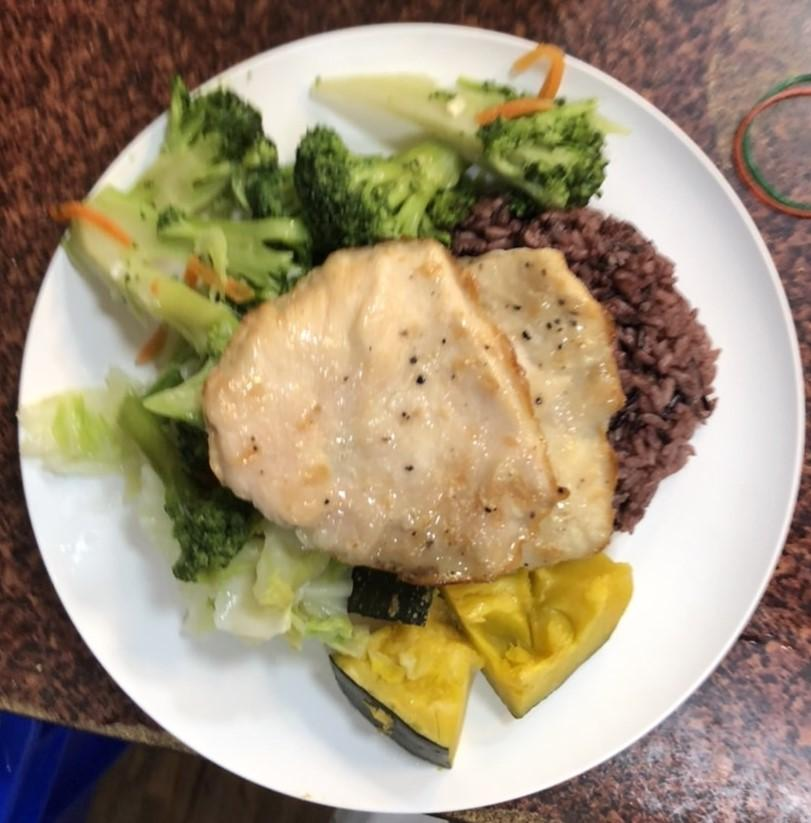big fried chicken leg: (6, 14, 811, 823)
braised fish: (442, 190, 721, 536)
braised fish fillet: (52, 66, 606, 569), (319, 554, 642, 775), (149, 514, 354, 647)
braised pork: (200, 232, 553, 583), (466, 242, 623, 569)
